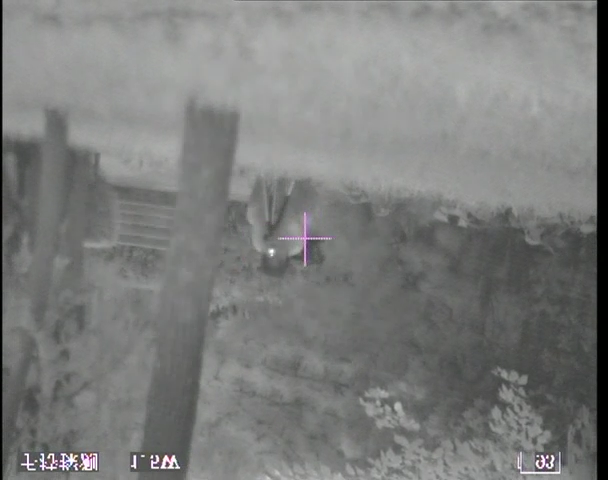my: (266, 246, 277, 258)
